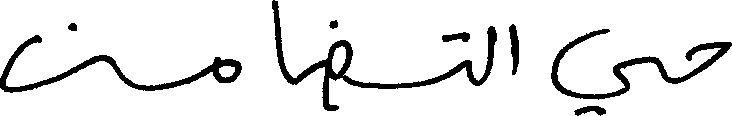ا: (478, 19, 499, 88), (271, 0, 288, 84), (504, 22, 519, 84)
ح: (682, 39, 730, 82)
ض: (325, 18, 352, 112)
م: (212, 55, 240, 84)
ن: (0, 21, 105, 93)
ي: (550, 26, 654, 114), (432, 28, 476, 89)
